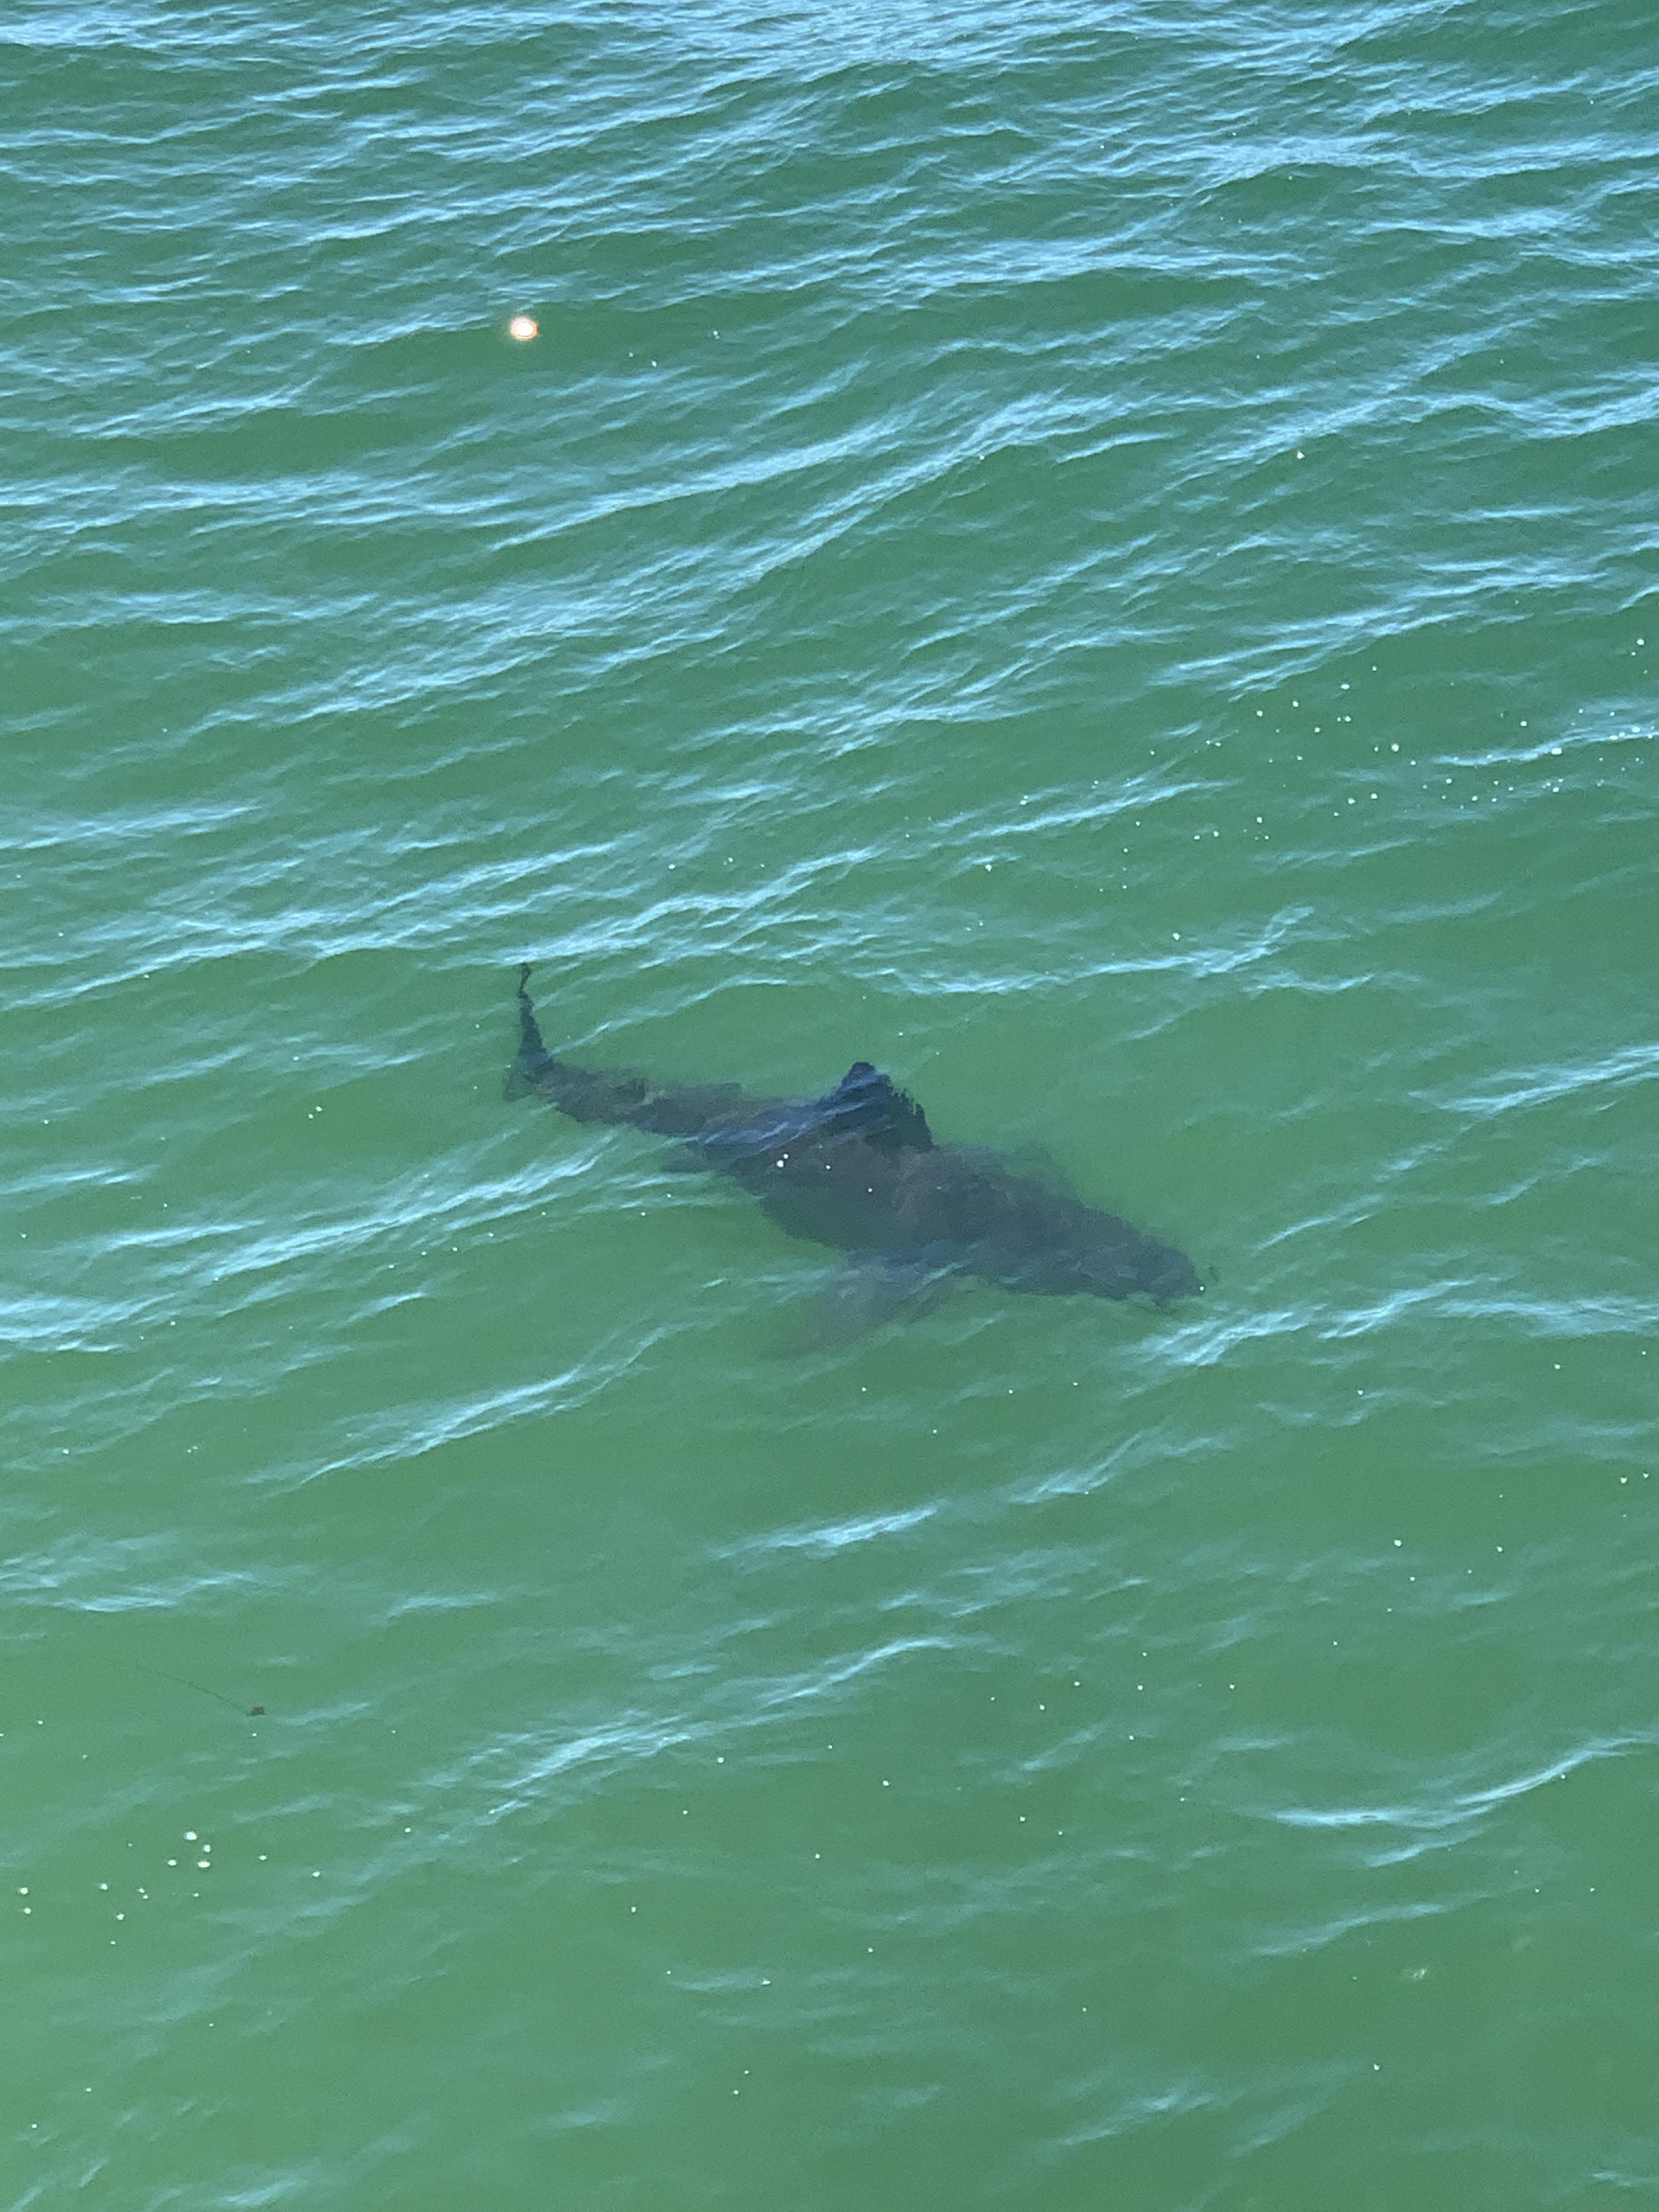shark: (373, 890, 1293, 1418)
